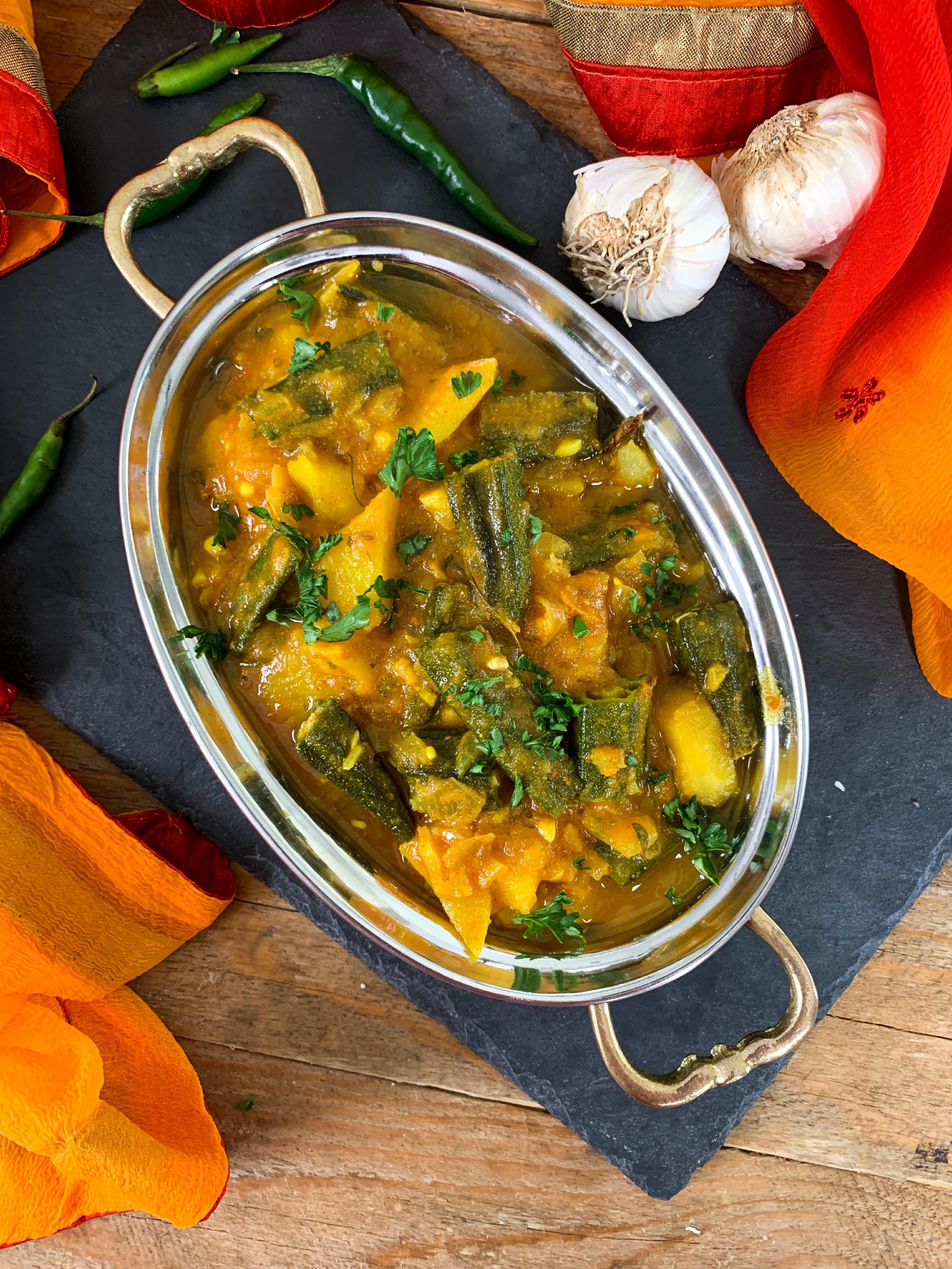BhindiMasala: (171, 267, 763, 960)
